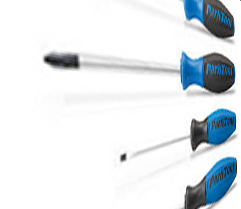screwdriver: (99, 104, 241, 159)
